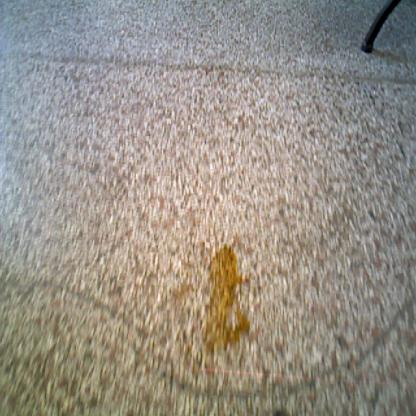liquid: (203, 244, 251, 353)
